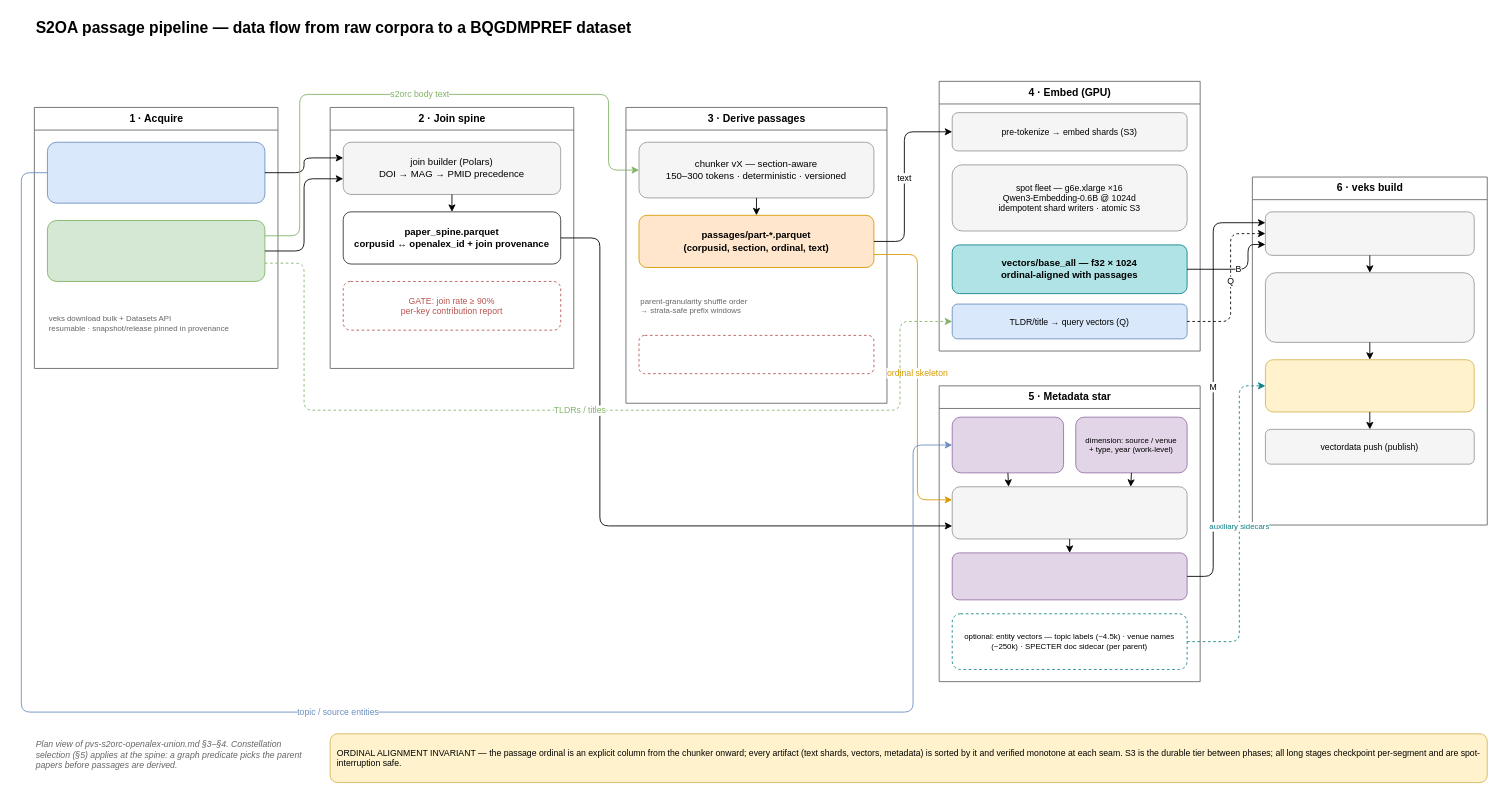
This 1502x809 diagram has some shape labels left out. The shapes that lost their labels are listed below. From the top down, each one's box as (x1, y1, x2, y2) in pixels, then its label:
(47, 141, 265, 203): OpenAlex snapshot s3://openalex — works, topics, sources (parquet)
(47, 220, 265, 281): S2AG bulk datasets papers · TLDRs · s2orc full text (JSONL)
(1265, 211, 1474, 255): veks prepare bootstrap B + M + Q in
(1265, 272, 1474, 342): veks run dedup/shuffle → G/D → survey → P → R → F/E → verify
(638, 335, 874, 374): GATE: passages/paper fan-out ≈ 60–120
(1265, 359, 1474, 412): s2oa-⟨constellation⟩ BQGDMPREF dataset + strata
(951, 416, 1064, 473): dimension: topic hierarchy topic → subfield → field → domain
(951, 486, 1187, 539): star flattening (Polars) spine joins dims → per-passage rows
(951, 552, 1187, 600): metadata_all.parquet ordinal-aligned with passages
